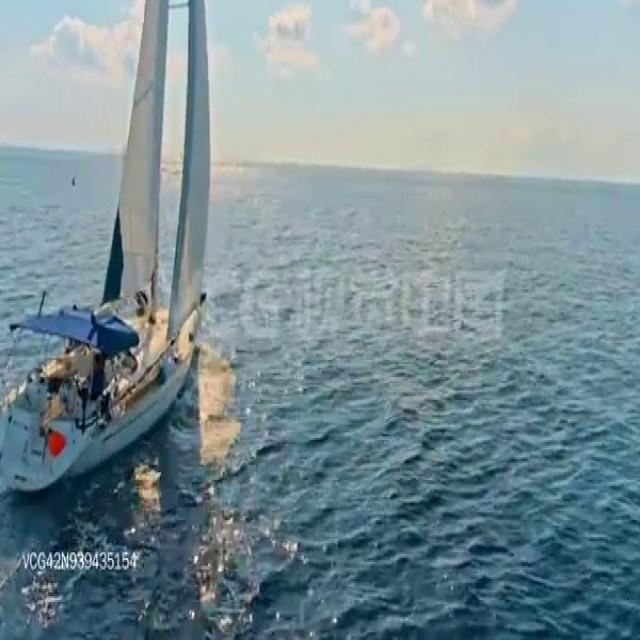sailboat: (0, 0, 222, 509)
